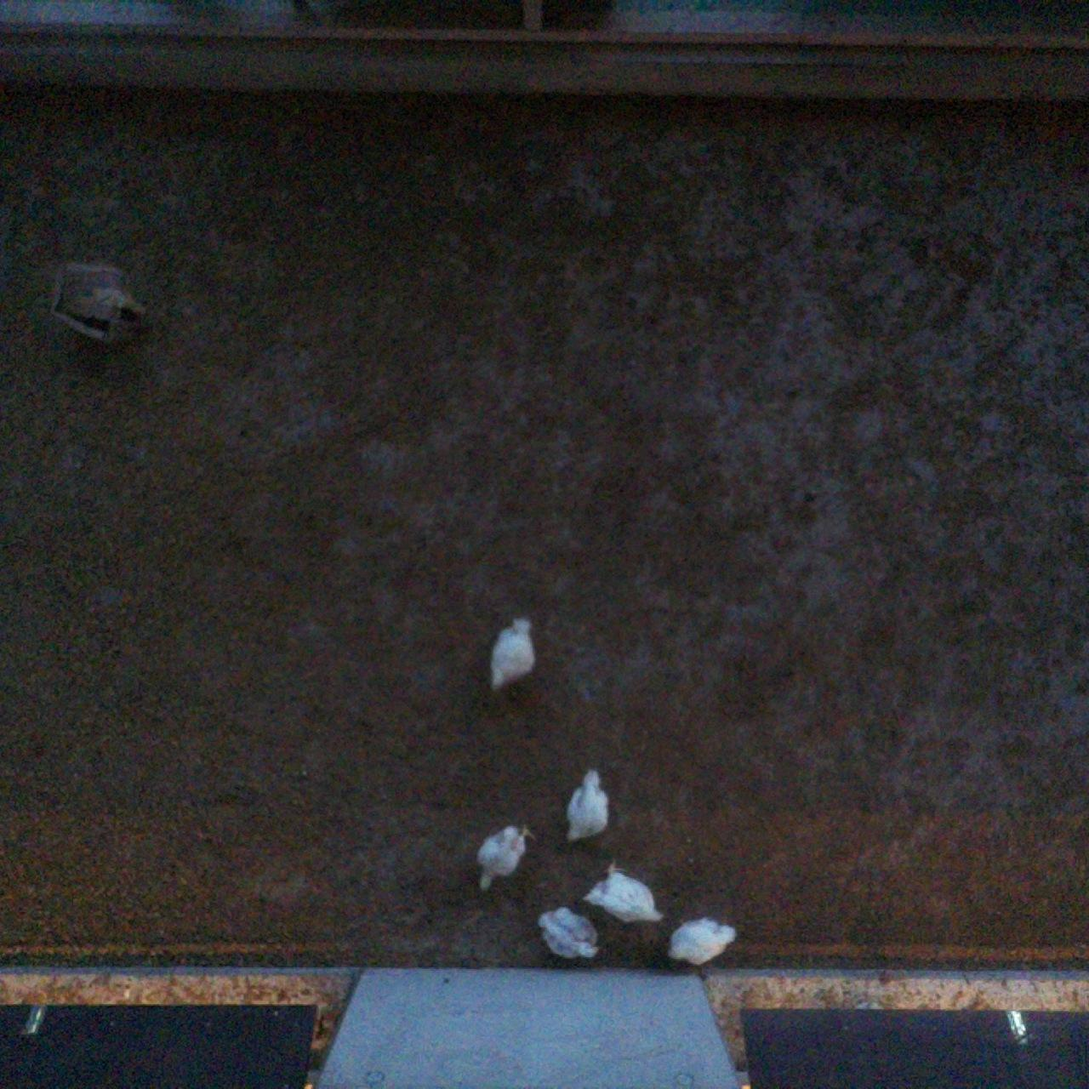chicken: (579, 852, 666, 930), (473, 816, 539, 899), (559, 760, 618, 846), (663, 908, 741, 973), (483, 613, 544, 695), (532, 901, 603, 968)
